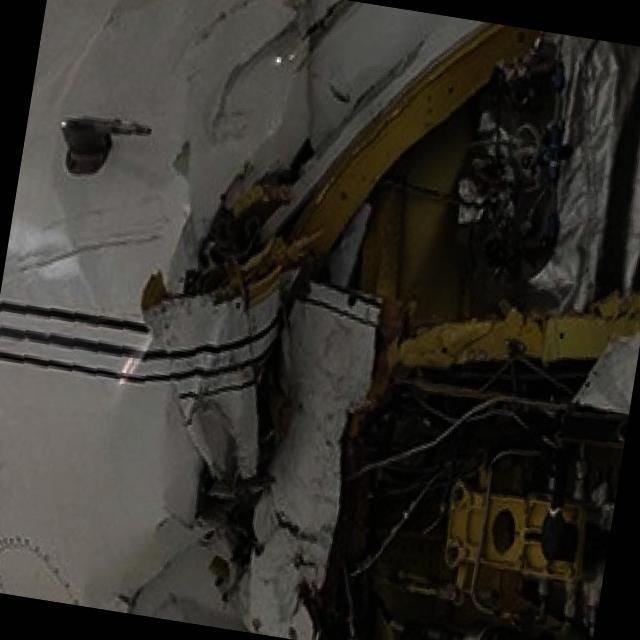crack: (177, 455, 283, 554), (115, 548, 180, 620)
